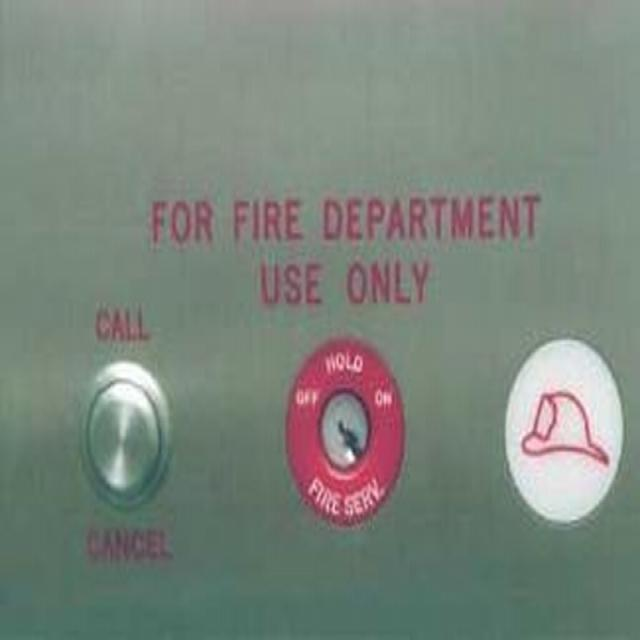empty: (78, 360, 171, 511)
keyhole: (284, 337, 404, 524)
unknown: (502, 336, 622, 521)
